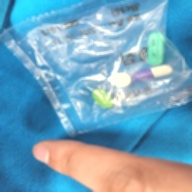러키펜정: (111, 72, 132, 88)
씨엠지세파클러캡슐: (131, 65, 173, 82)
에르도캡슐: (147, 32, 165, 66)
휴티렌정: (92, 89, 114, 108)
